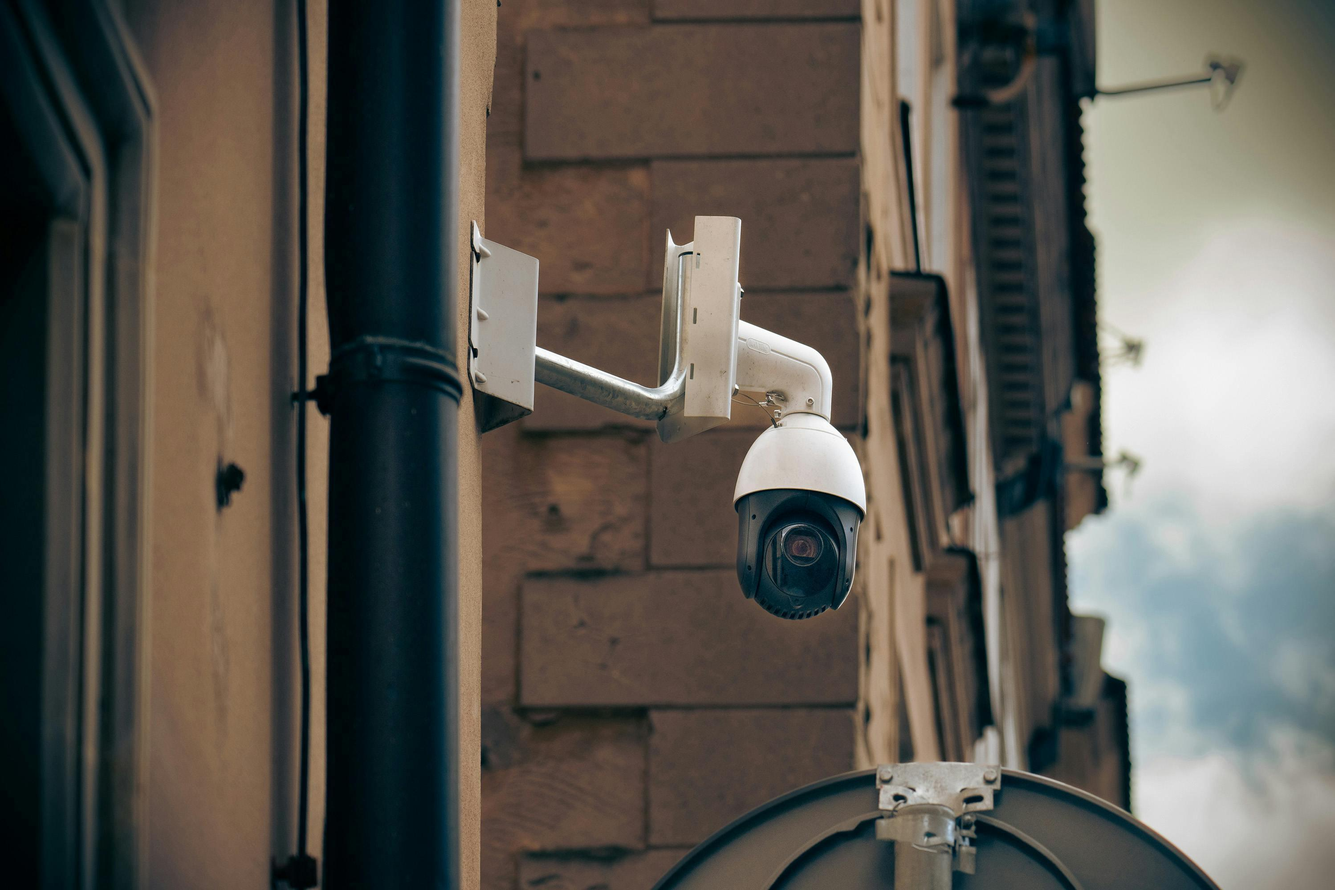camera: (666, 216, 928, 668)
